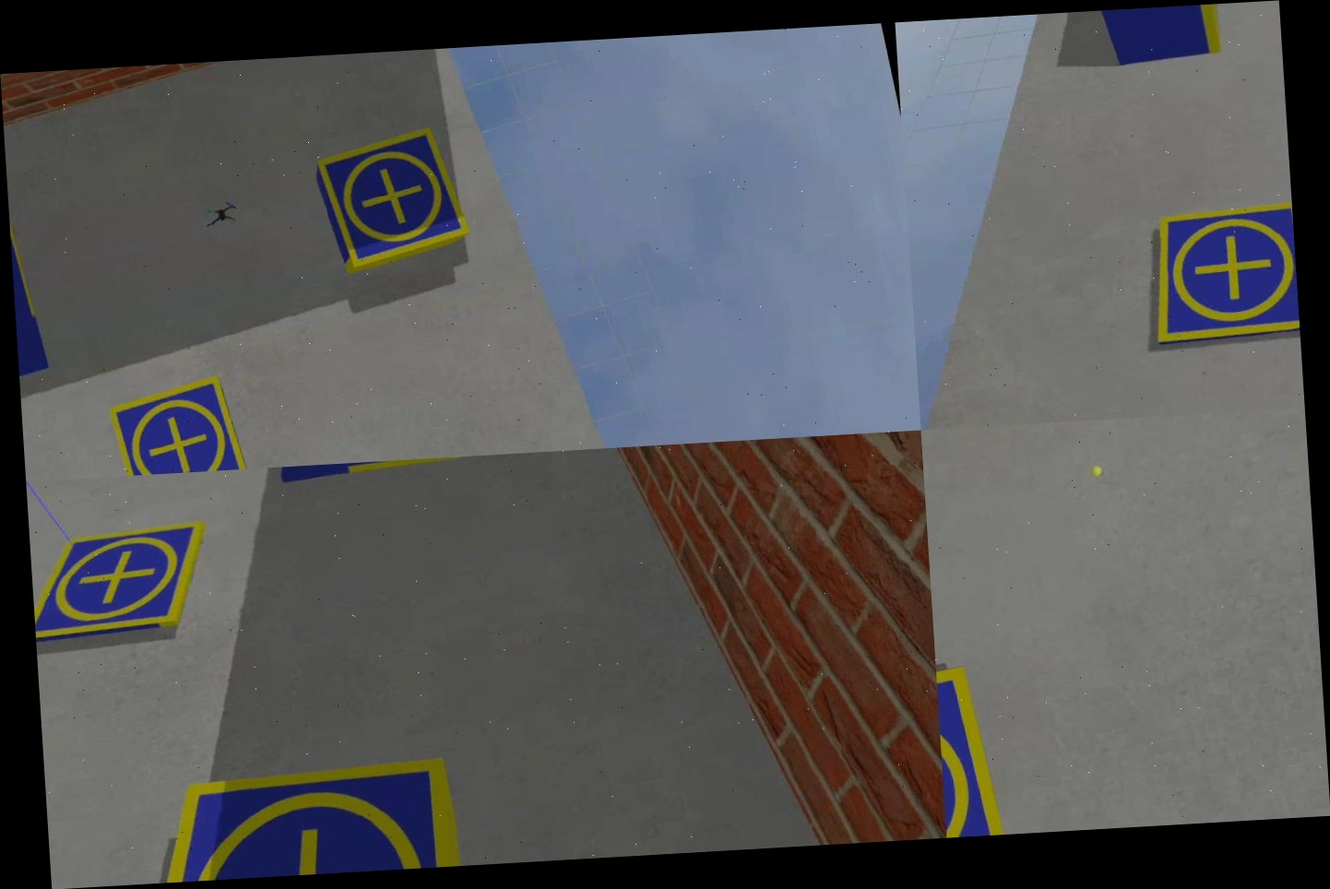small_base: (91, 731, 483, 886), (29, 504, 223, 656), (1129, 193, 1300, 358), (311, 122, 472, 273), (104, 371, 253, 477)
